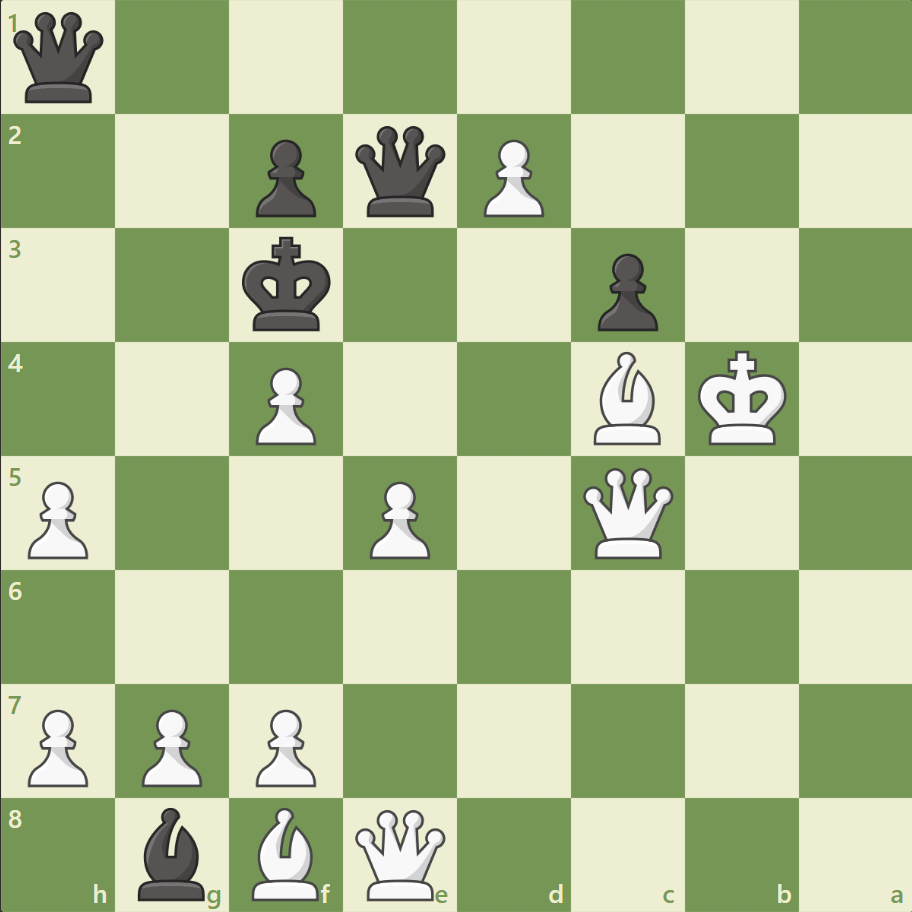B: (244, 801, 328, 904), (585, 347, 669, 449)
K: (692, 344, 792, 452)
P: (247, 700, 322, 791), (133, 700, 208, 791), (20, 700, 95, 791), (20, 473, 95, 564), (247, 359, 322, 450), (474, 132, 549, 223), (361, 473, 435, 564)
Q: (351, 804, 450, 903), (578, 463, 677, 562)
b: (131, 801, 215, 904)
k: (238, 231, 338, 339)
p: (247, 132, 322, 223), (588, 246, 662, 337)
q: (351, 122, 450, 222), (10, 9, 109, 108)
